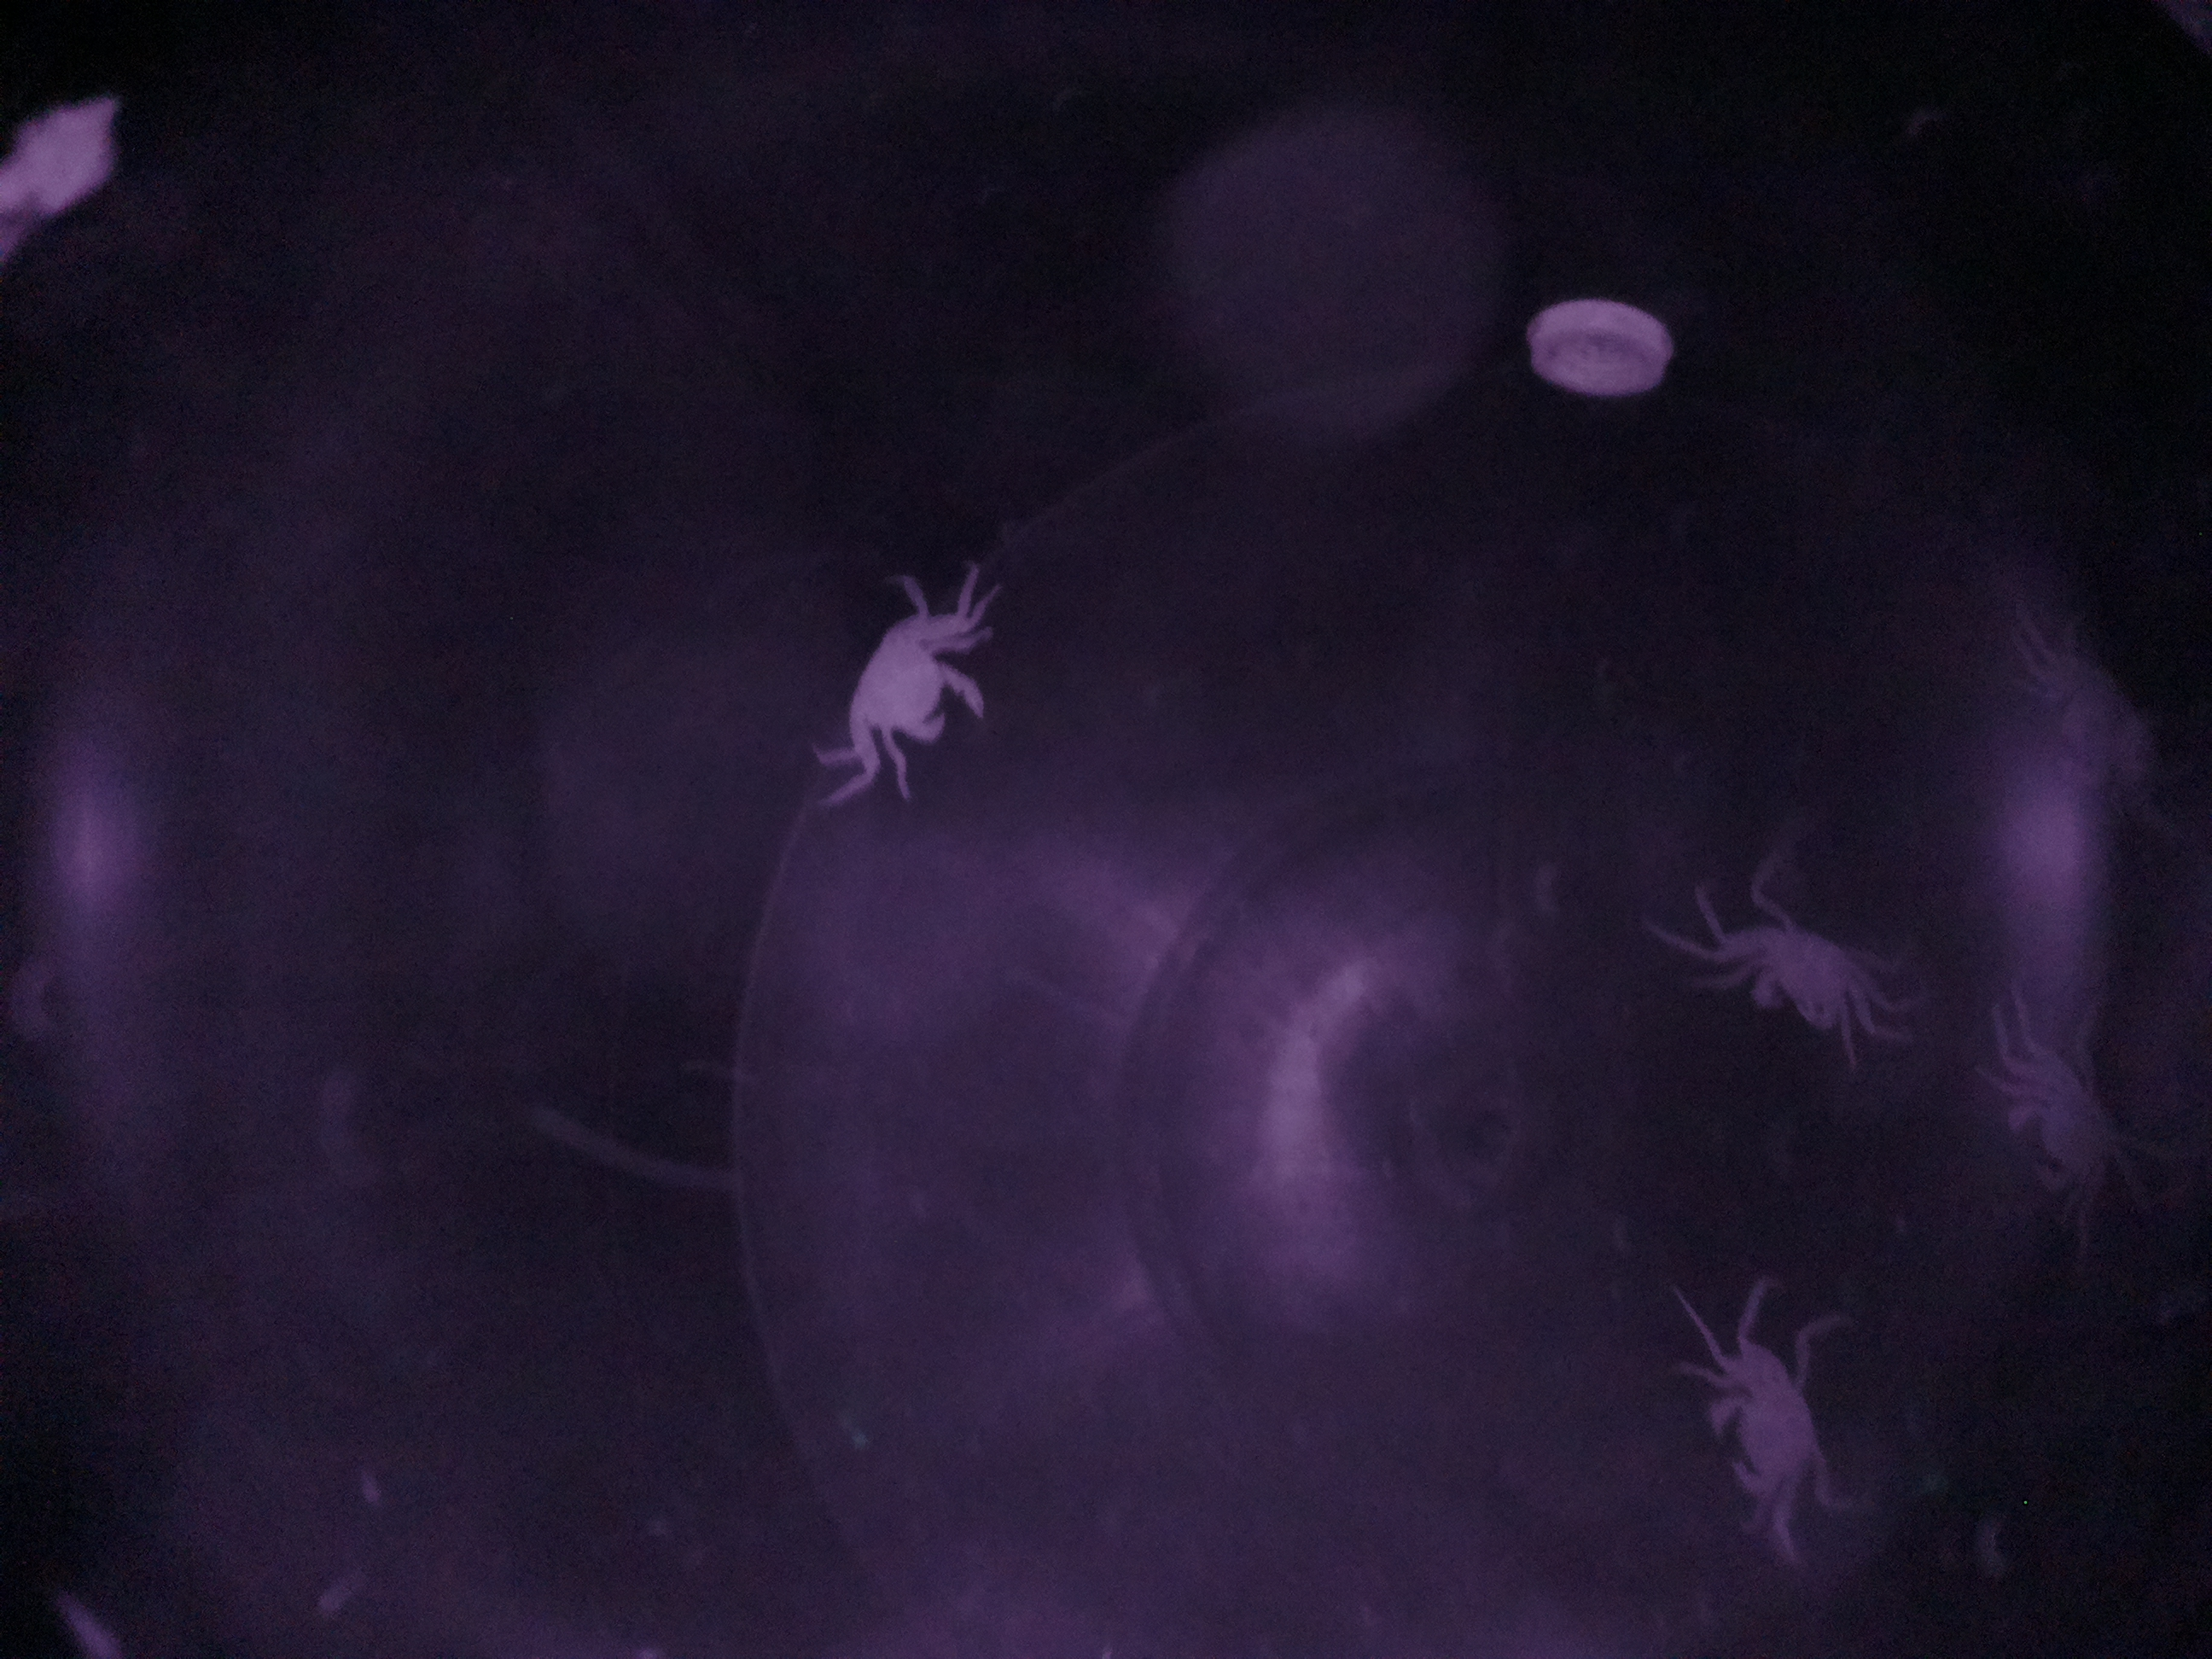Crab: (1681, 1326, 1848, 1525), (829, 587, 1000, 769), (1716, 906, 1893, 1061)
